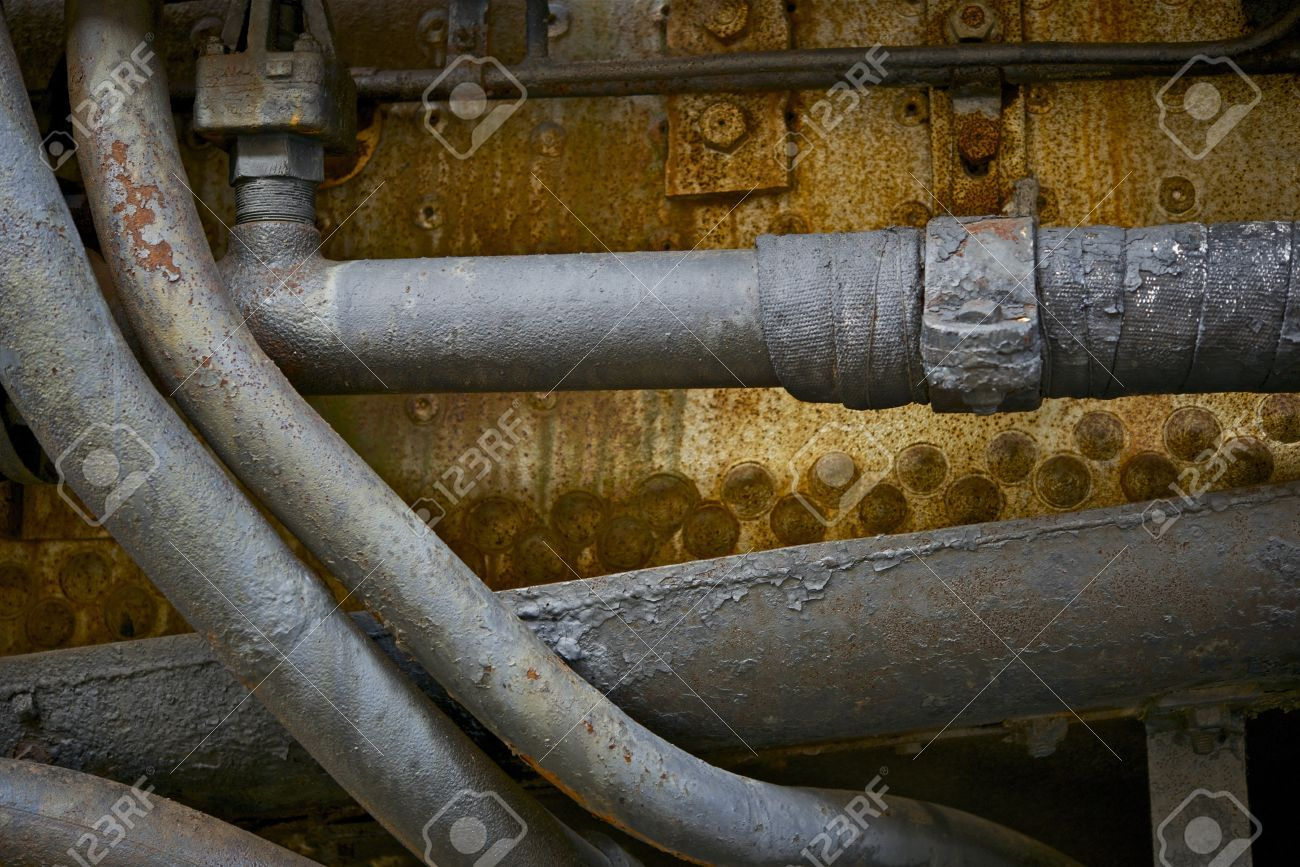Low: (439, 659, 705, 805), (78, 133, 209, 293), (925, 202, 1059, 253)
